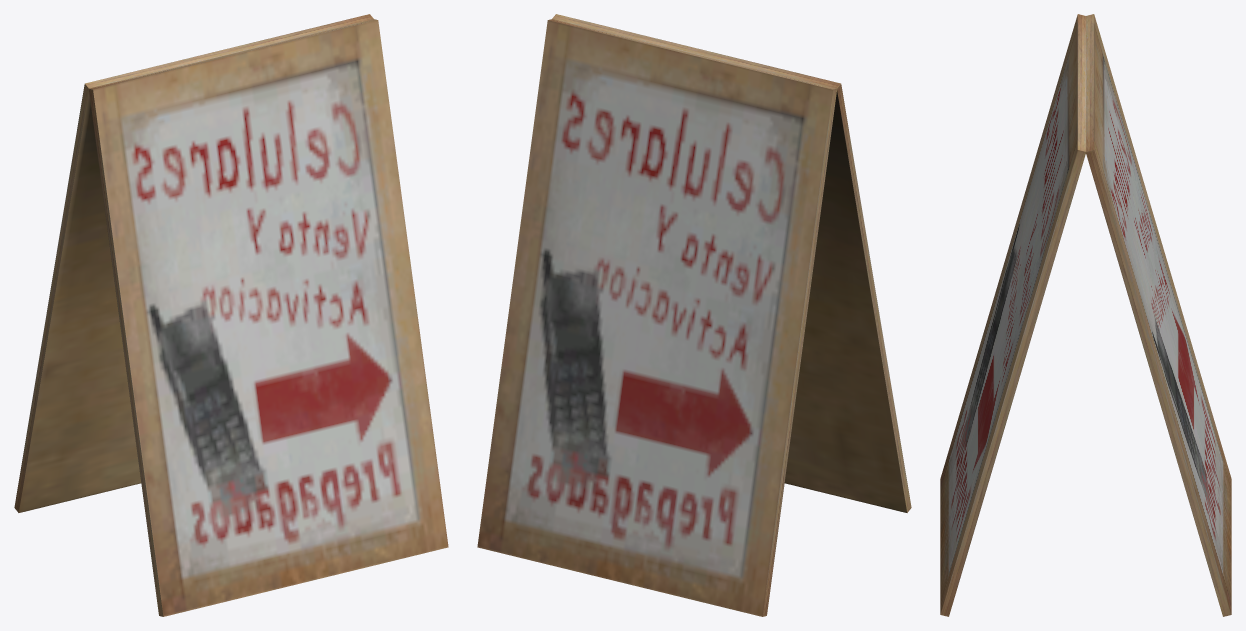
Rendered from cellphone_sign.fbx.
3 views of the same model, side by side, from view 1: azimuth 30°, elevation 25°; view 2: azimuth 150°, elevation 25°; view 3: azimuth 270°, elevation 25° (orthographic). The views are drawn at different scales.
Visible parts, largest first — view 1: mesh_0; view 2: mesh_0; view 3: mesh_0.
Part boxes in pixels (x1=…): mesh_0: x1=14, y1=14, x2=448, y2=616; mesh_0: x1=477, y1=14, x2=911, y2=616; mesh_0: x1=940, y1=14, x2=1231, y2=616.
Size of the model in its own units: 60 by 96.08 by 54.31.
1 material, 1 textured.
